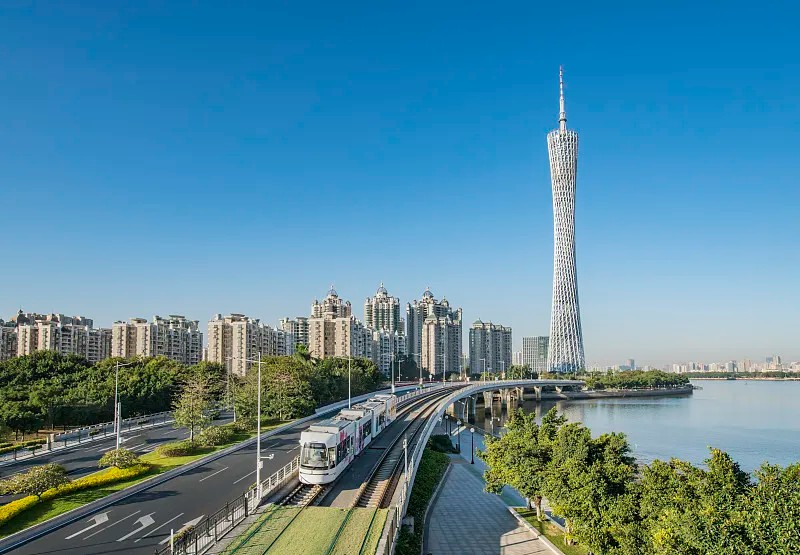Canton: (541, 65, 585, 375)
